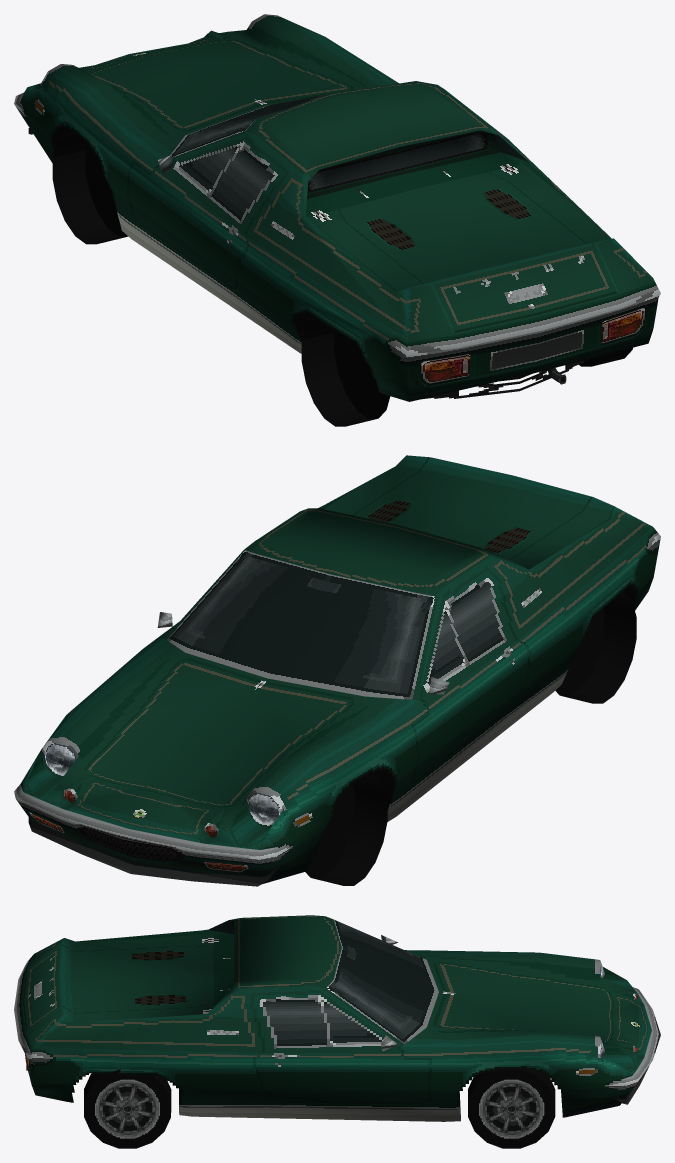
File: europ.glb
3 views of the same model, one above another, from view 1: azimuth 30°, elevation 25°; view 2: azimuth 150°, elevation 25°; view 3: azimuth 270°, elevation 25° (orthographic). The views are drawn at different scales.
Visible parts, largest first — view 1: ioeun, ioeun.004, ioeun.003; view 2: ioeun, ioeun.003, ioeun.004; view 3: ioeun, ioeun.001, ioeun.002.
Part boxes in pixels (<box>): ioeun: <box>14,14,660,401</box>; ioeun.004: <box>301,317,390,426</box>; ioeun.003: <box>52,131,127,244</box>; ioeun: <box>14,455,660,886</box>; ioeun.003: <box>305,773,387,885</box>; ioeun.004: <box>555,592,636,703</box>; ioeun: <box>14,915,660,1121</box>; ioeun.001: <box>468,1068,555,1148</box>; ioeun.002: <box>84,1069,171,1148</box>.
Size of the model in its own units: 1.64 by 1.05 by 4.06.
2 materials, 2 textured.
